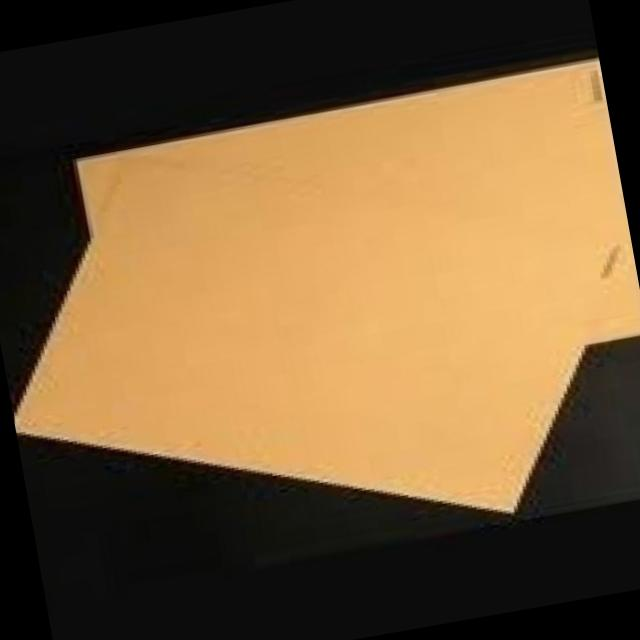cardboard paper: (13, 57, 640, 509)
